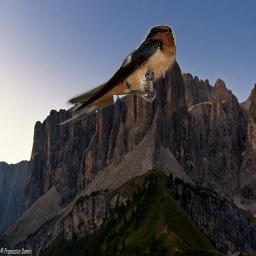Swallow: (54, 25, 176, 125)
